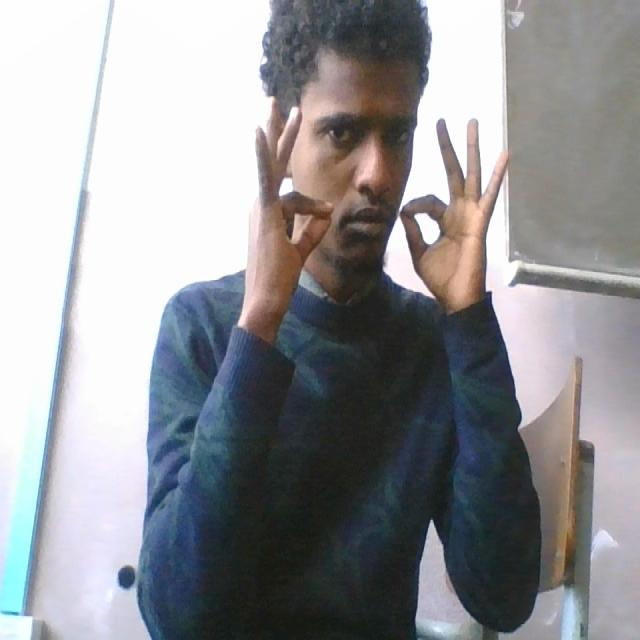dmet: (237, 91, 510, 322)
